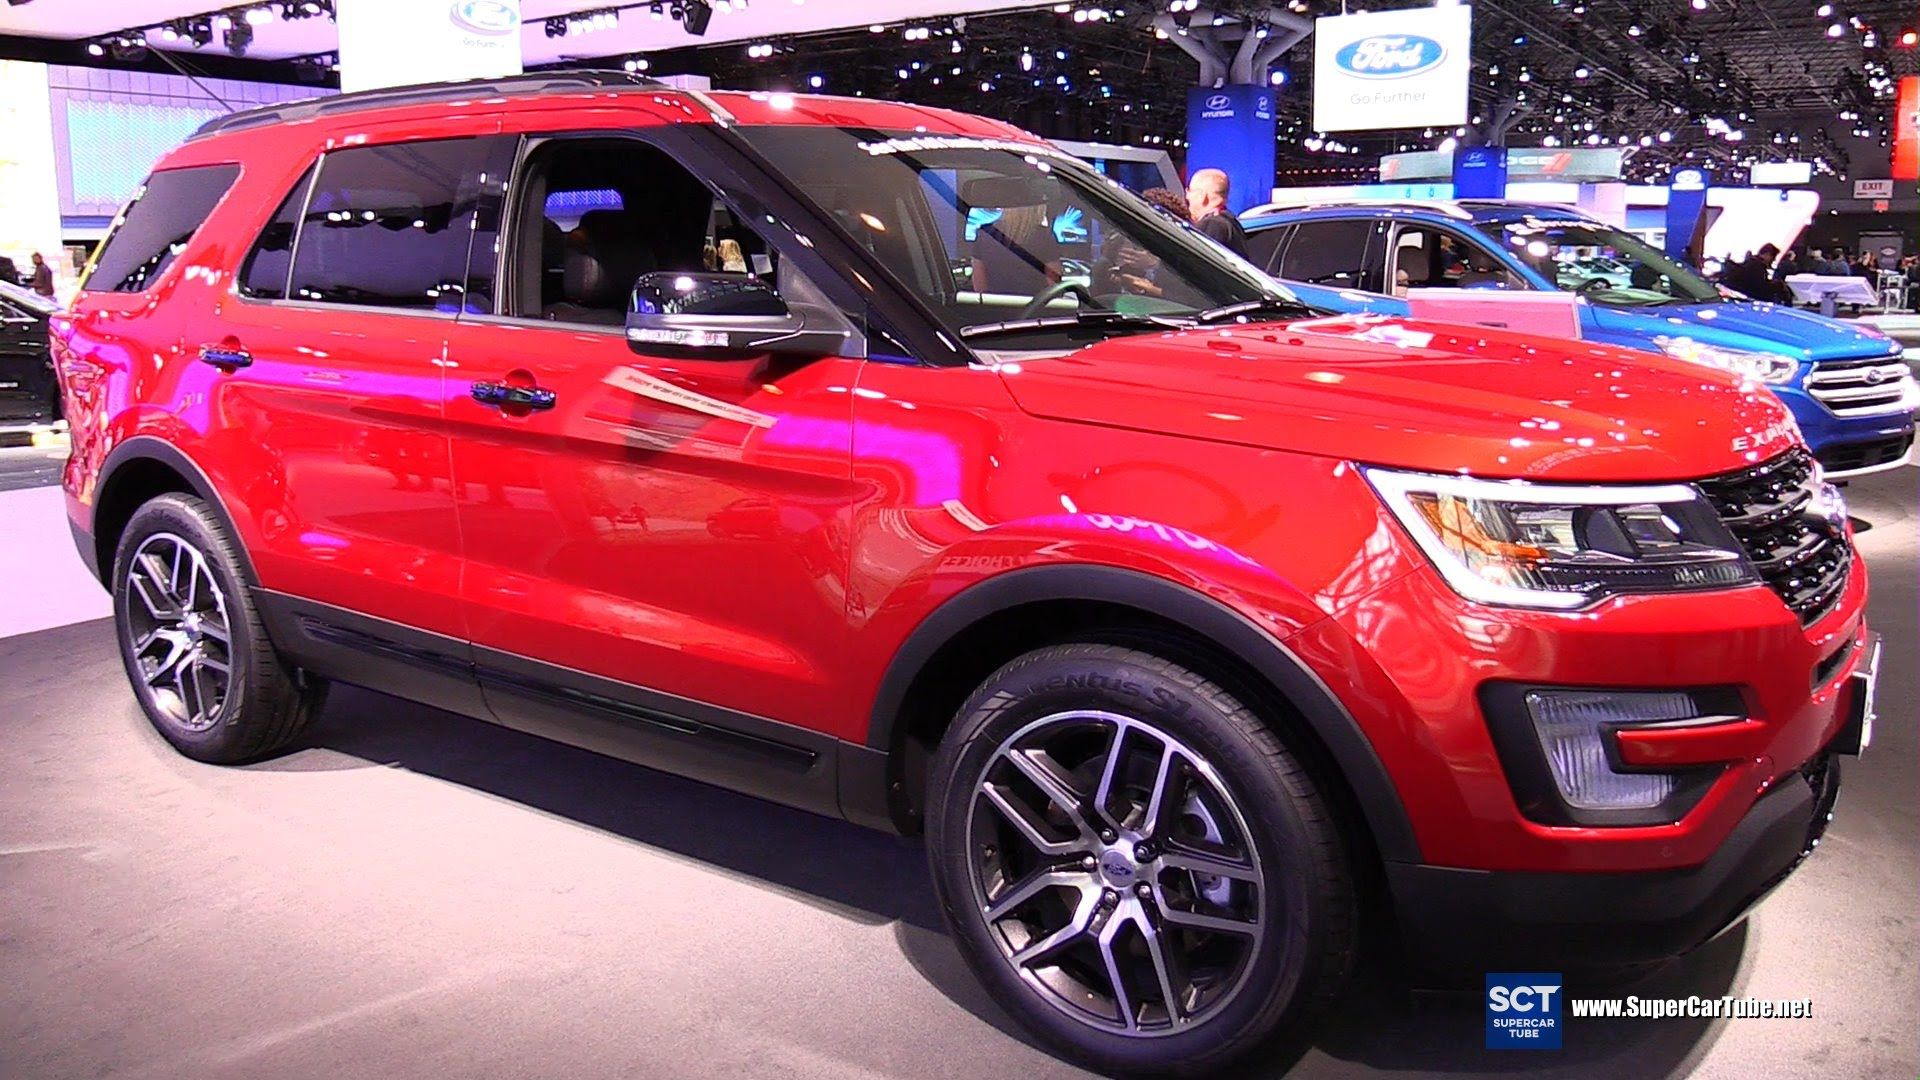Ford Explorer: (45, 69, 1882, 1080)
